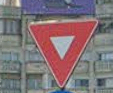cedeaza: (28, 18, 100, 90)
